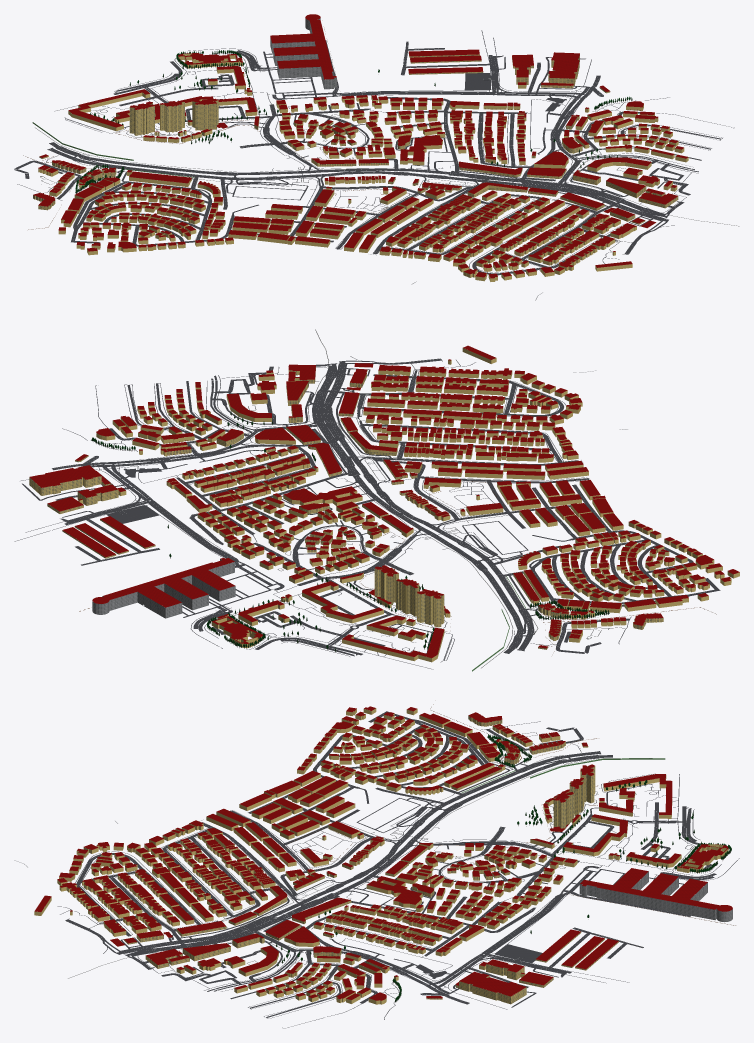
Rendered from osm3d.glb.
3 views of the same model, one above another, from view 1: azimuth 30°, elevation 25°; view 2: azimuth 150°, elevation 25°; view 3: azimuth 270°, elevation 25° (orthographic). The views are drawn at different scales.
Parts seen in each view (by area): view 1: RoofingTiles010, Plaster002, ASPHALT, Windows, TextureAtlas 962fbf54, STEEL, Concrete034, Windows.001; view 2: RoofingTiles010, Plaster002, ASPHALT, Windows, STEEL, TextureAtlas 962fbf54, Windows.001, Concrete034; view 3: RoofingTiles010, Plaster002, ASPHALT, Windows, STEEL, TextureAtlas 962fbf54, Concrete034, Windows.001.
Boxes of the visible parts, x1=… form: RoofingTiles010: x1=33, y1=14, x2=687, y2=278; Plaster002: x1=33, y1=53, x2=688, y2=281; ASPHALT: x1=14, y1=30, x2=734, y2=275; Windows: x1=33, y1=53, x2=678, y2=223; TextureAtlas 962fbf54: x1=75, y1=50, x2=632, y2=193; STEEL: x1=270, y1=18, x2=542, y2=300; Concrete034: x1=35, y1=65, x2=739, y2=266; Windows.001: x1=270, y1=19, x2=336, y2=88; RoofingTiles010: x1=30, y1=345, x2=739, y2=658; Plaster002: x1=29, y1=348, x2=739, y2=662; ASPHALT: x1=14, y1=356, x2=720, y2=669; Windows: x1=29, y1=370, x2=663, y2=648; STEEL: x1=92, y1=370, x2=627, y2=618; TextureAtlas 962fbf54: x1=91, y1=411, x2=609, y2=652; Windows.001: x1=92, y1=559, x2=235, y2=617; Concrete034: x1=216, y1=329, x2=601, y2=668; RoofingTiles010: x1=35, y1=706, x2=732, y2=1000; Plaster002: x1=34, y1=708, x2=728, y2=1004; ASPHALT: x1=57, y1=711, x2=739, y2=1028; Windows: x1=124, y1=716, x2=618, y2=1003; STEEL: x1=14, y1=821, x2=732, y2=922; TextureAtlas 962fbf54: x1=276, y1=734, x2=731, y2=1002; Concrete034: x1=68, y1=732, x2=701, y2=978; Windows.001: x1=580, y1=872, x2=731, y2=921.
Bounding box in the file's own units: 1348 × 52.52 × 1260.
19 materials, 18 textured.
